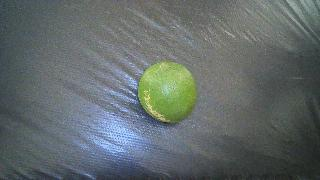DESECHO: (138, 62, 197, 123)
